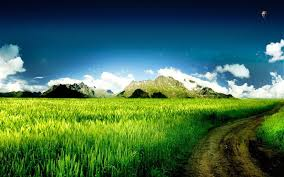field: (3, 97, 283, 176)
sky: (2, 2, 284, 94)
